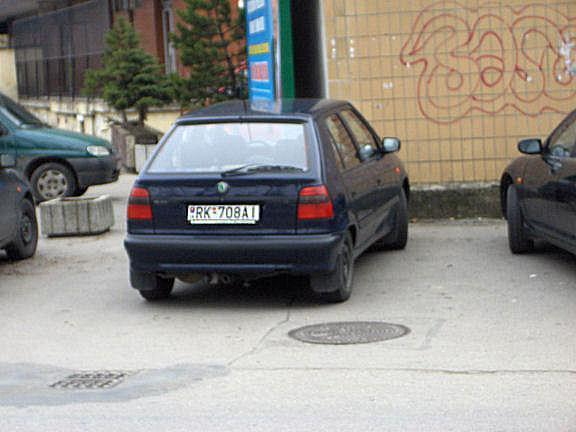placa de veiculo: (176, 193, 271, 233)
